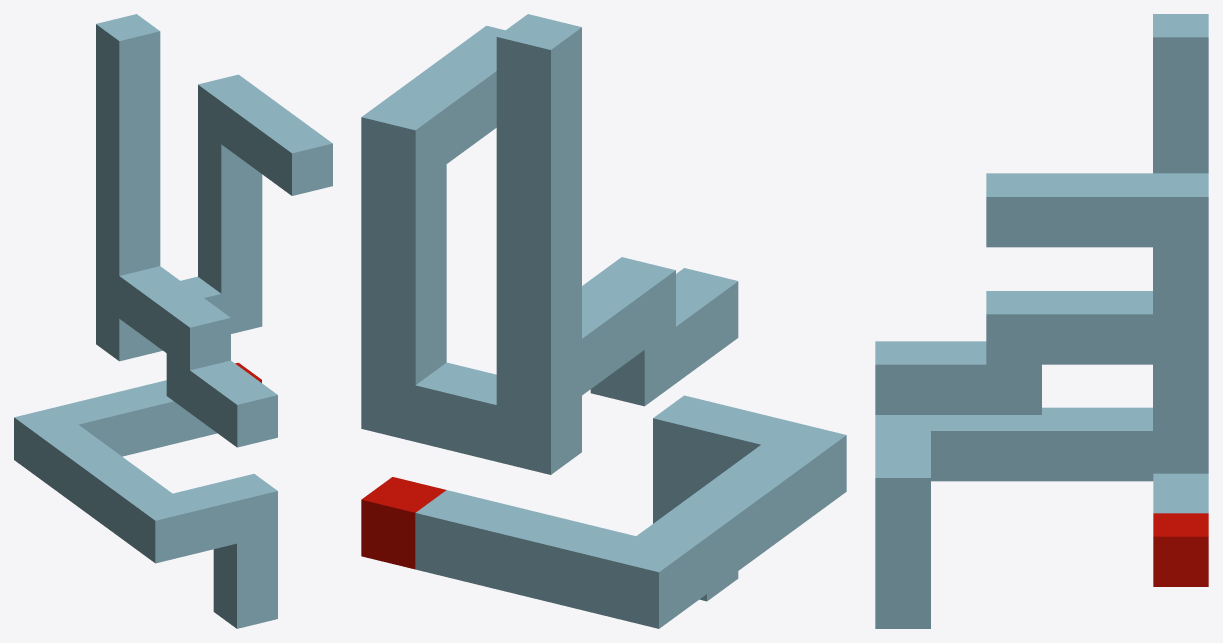
File: LevelPlatform_3.fbx
3 renders of one model, left to right at view 1: azimuth 30°, elevation 25°; view 2: azimuth 150°, elevation 25°; view 3: azimuth 270°, elevation 25°, orthographic. The views are drawn at different scales.
Visible parts, largest first — view 1: Cube.003, Cube.009; view 2: Cube.003, Cube.009; view 3: Cube.003, Cube.009.
Boxes of the visible parts, x1,y1,x2,y2 form: Cube.003: (96, 14, 332, 447); Cube.009: (14, 362, 277, 628); Cube.003: (361, 14, 738, 474); Cube.009: (361, 395, 846, 628); Cube.003: (875, 14, 1208, 473); Cube.009: (875, 407, 1208, 628).
Bounding box in the file's own units: 1201 × 1100 × 2350.
